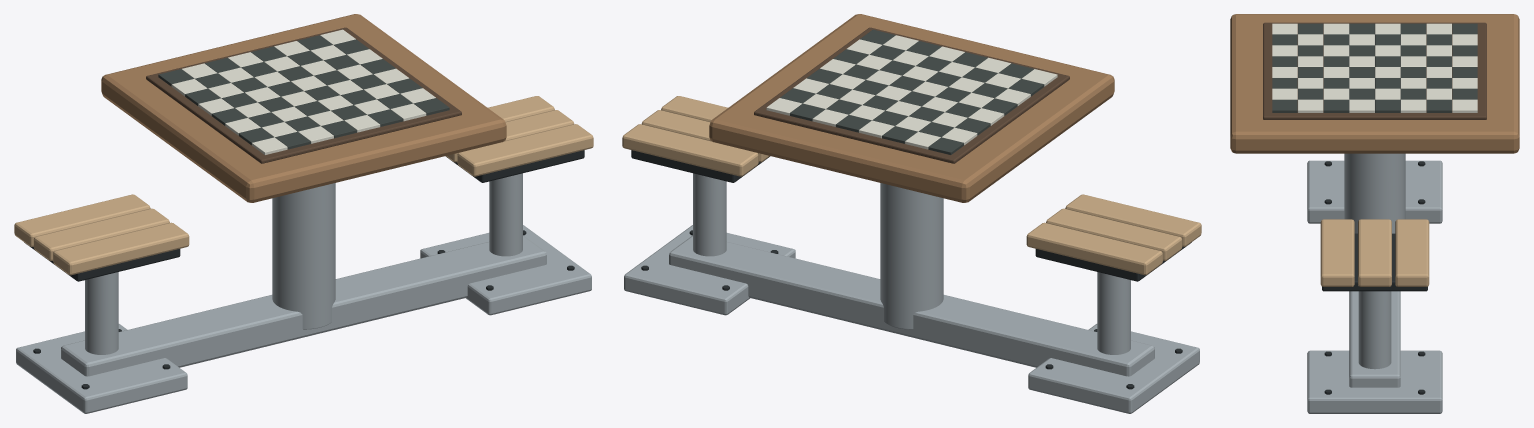
File: city-fixed-chess-table.glb
3 renders of one model, left to right at view 1: azimuth 30°, elevation 25°; view 2: azimuth 150°, elevation 25°; view 3: azimuth 270°, elevation 25°, orthographic. The views are drawn at different scales.
Visible parts, largest first — view 1: Assembly | Satin equipment steel, Assembly | Warm plain laminated wood color, Assembly | Pale wood edge color, Assembly | Charcoal playing surfaces, Assembly | Ivory playing surfaces, Assembly | Dark sealed wood color, Assembly | Graphite fittings; view 2: Assembly | Satin equipment steel, Assembly | Warm plain laminated wood color, Assembly | Pale wood edge color, Assembly | Ivory playing surfaces, Assembly | Charcoal playing surfaces, Assembly | Dark sealed wood color, Assembly | Graphite fittings; view 3: Assembly | Satin equipment steel, Assembly | Warm plain laminated wood color, Assembly | Ivory playing surfaces, Assembly | Charcoal playing surfaces, Assembly | Pale wood edge color, Assembly | Dark sealed wood color, Assembly | Graphite fittings.
Part boxes in pixels (x1,y1,x2,y2): Assembly | Satin equipment steel: [16, 173, 591, 413]; Assembly | Warm plain laminated wood color: [101, 14, 506, 202]; Assembly | Pale wood edge color: [14, 96, 593, 275]; Assembly | Charcoal playing surfaces: [158, 35, 449, 149]; Assembly | Ivory playing surfaces: [171, 29, 435, 154]; Assembly | Dark sealed wood color: [146, 27, 461, 163]; Assembly | Graphite fittings: [24, 150, 584, 389]; Assembly | Satin equipment steel: [624, 173, 1199, 413]; Assembly | Warm plain laminated wood color: [709, 14, 1114, 202]; Assembly | Pale wood edge color: [622, 96, 1201, 275]; Assembly | Ivory playing surfaces: [766, 35, 1057, 149]; Assembly | Charcoal playing surfaces: [780, 29, 1044, 154]; Assembly | Dark sealed wood color: [754, 27, 1069, 163]; Assembly | Graphite fittings: [631, 150, 1191, 389]; Assembly | Satin equipment steel: [1307, 153, 1442, 413]; Assembly | Warm plain laminated wood color: [1230, 14, 1519, 153]; Assembly | Ivory playing surfaces: [1272, 23, 1477, 112]; Assembly | Charcoal playing surfaces: [1272, 23, 1477, 112]; Assembly | Pale wood edge color: [1320, 219, 1429, 286]; Assembly | Dark sealed wood color: [1263, 22, 1486, 119]; Assembly | Graphite fittings: [1322, 161, 1427, 394].
Bounding box in the file's own units: 1.82 × 0.784 × 0.9.
